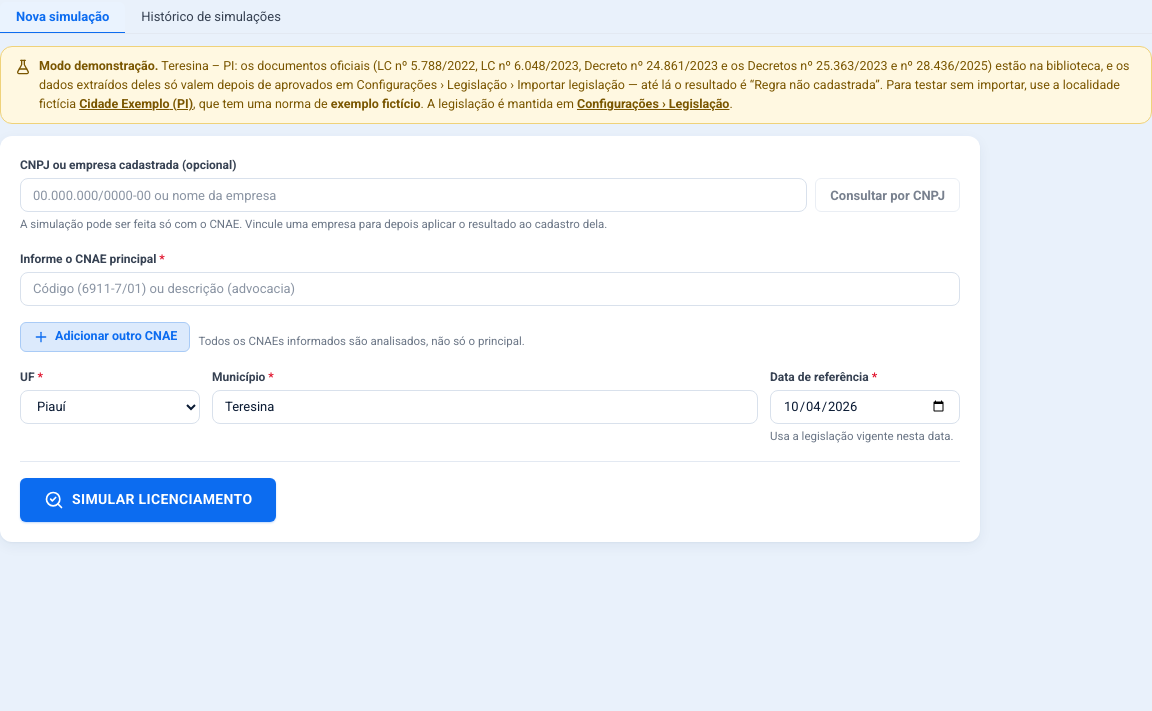
it: tela de Simulação de Licenciamento › CNAE sem condição: resultado imediato, salvo no histórico
Step 1. Click the button "Cidade Exemplo (PI)" → [136, 104], box 79,94 -> 193,113
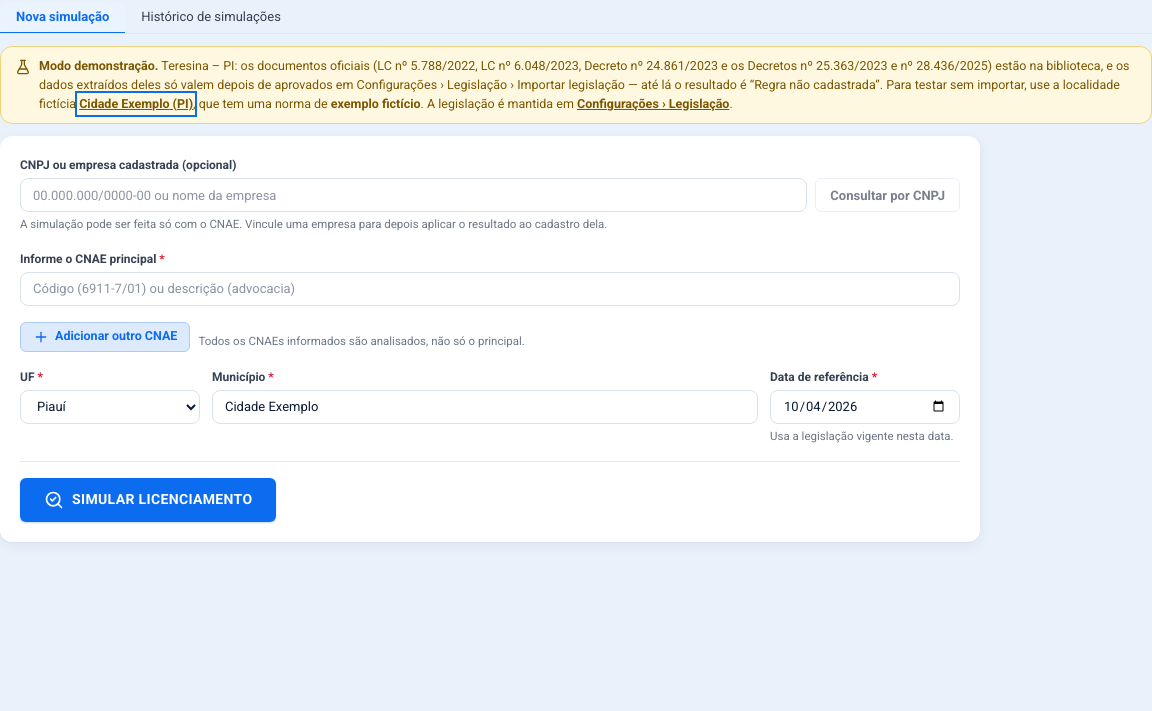
Step 2. Type "6911701" into the dropdown labelled "Informe o CNAE principal *" → [490, 288], box 20,272 -> 960,306
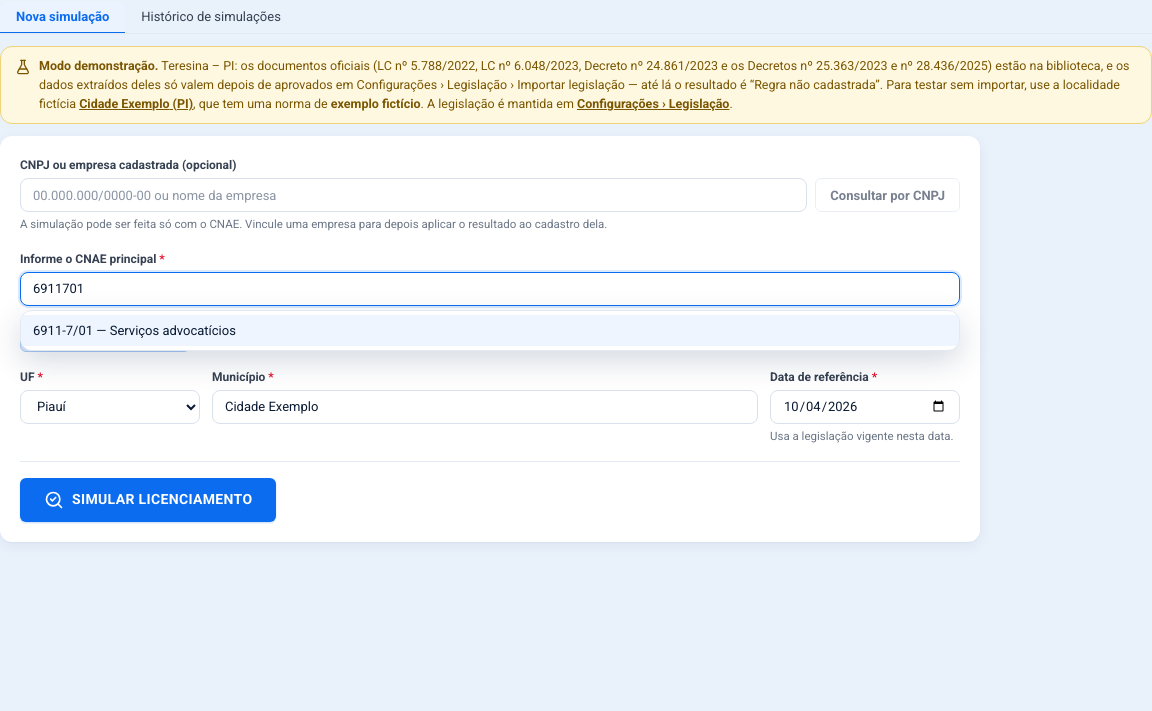
Step 3. Click the button "Simular licenciamento" → [148, 500], box 20,478 -> 276,522
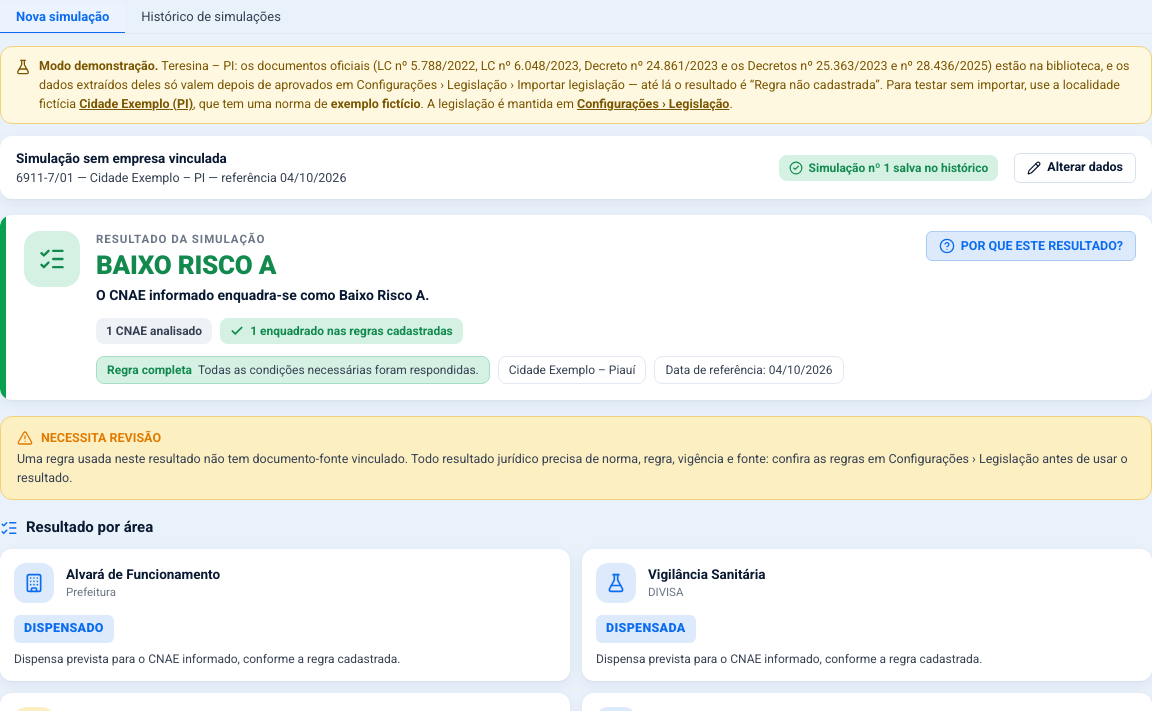
Expected: the text "Resultado da simulação" is shown, 96,232 -> 265,246
Expected: the text "O CNAE informado enquadra-se como Baixo Risco A." is shown, 96,287 -> 429,303
Expected: the text "Regra completa" is shown, 107,361 -> 192,379
Step 4. Click the button "Por que este resultado?" → [1031, 246], box 926,231 -> 1136,261
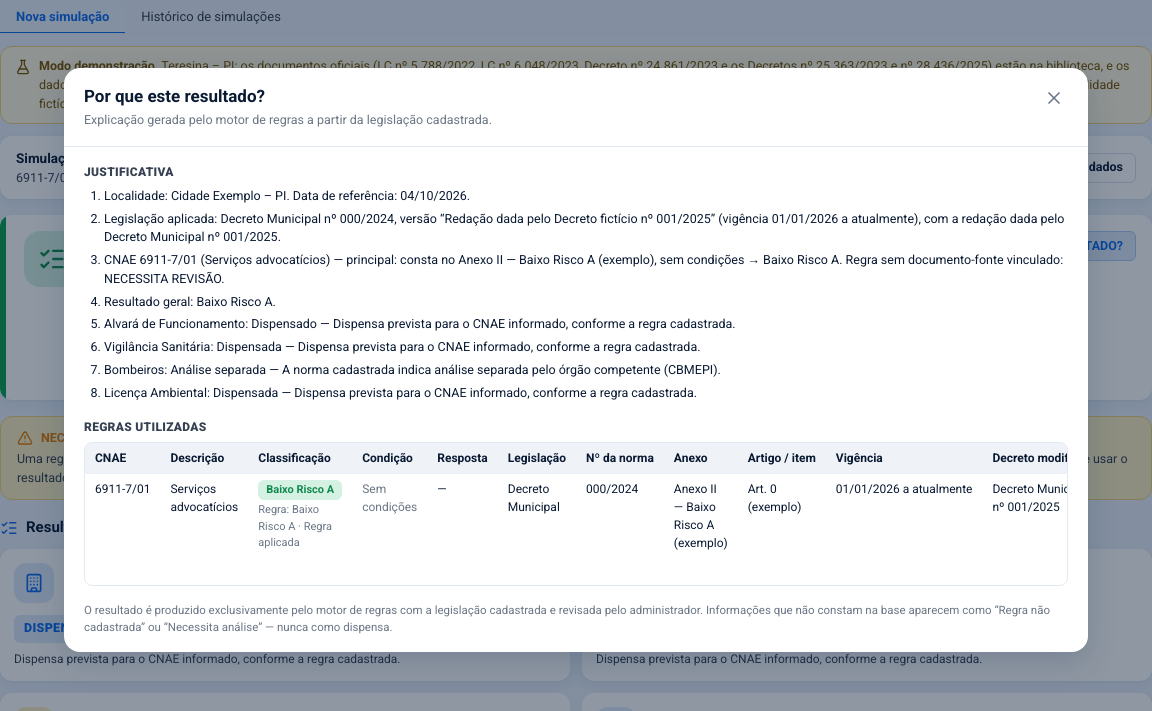
Expected: the heading "Justificativa" is shown, 84,165 -> 174,179
Expected: the text "Decreto Municipal nº 001/2025" is shown, 982,473 -> 1068,585
Expected: the text "000/2024" is shown, 576,473 -> 664,585
